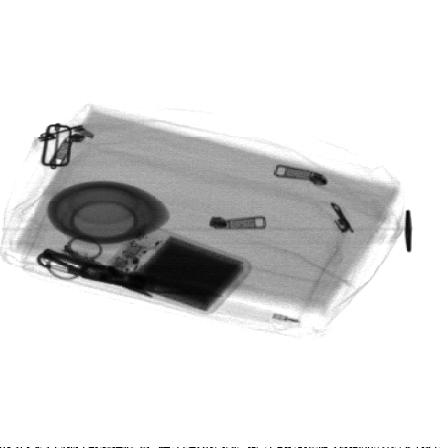Powerbank: (100, 222, 253, 317)
Scissors: (46, 232, 158, 296)
